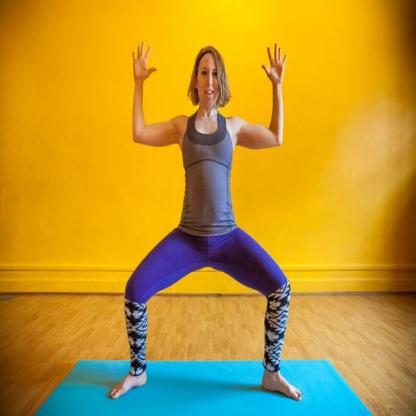godness: (105, 36, 306, 416)
